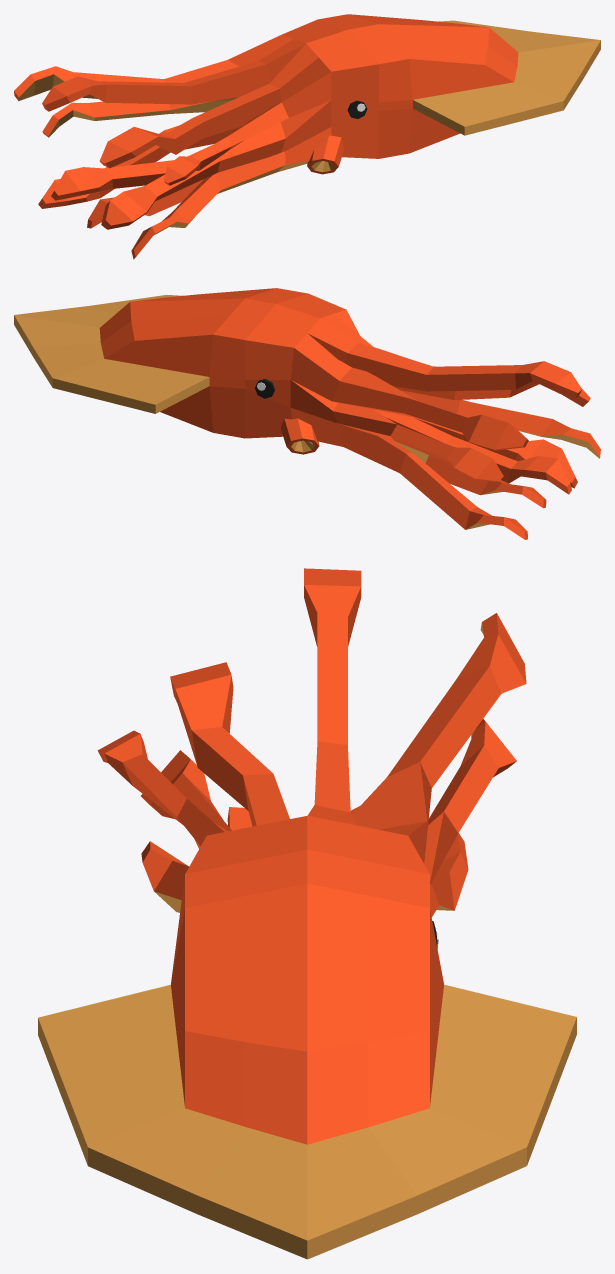
The model's file is Squid_01.obj.
3 views of the same model, one above another, from view 1: azimuth 30°, elevation 25°; view 2: azimuth 150°, elevation 25°; view 3: azimuth 270°, elevation 25° (orthographic). The views are drawn at different scales.
Parts seen in each view (by area): view 1: Cube.040; view 2: Cube.040; view 3: Cube.040.
Part boxes in pixels (left/top/right/bottom): Cube.040: left=14, top=14, right=600, bottom=259; Cube.040: left=14, top=288, right=600, bottom=539; Cube.040: left=38, top=568, right=576, bottom=1259.
Bounding box in the file's own units: 884 × 229 × 374.
